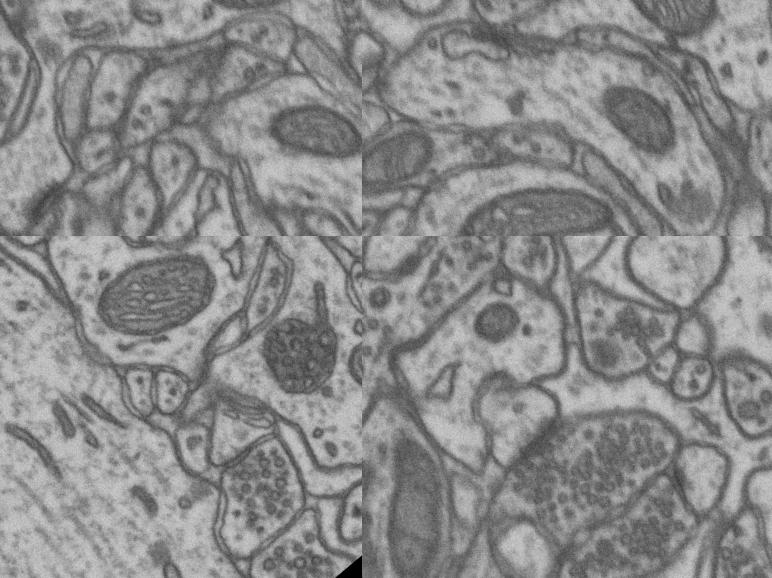mitochondria: (362, 397, 515, 578), (64, 236, 221, 378), (434, 134, 621, 236), (255, 69, 362, 195), (588, 62, 696, 174), (362, 344, 419, 542), (362, 108, 444, 217), (564, 300, 658, 394), (599, 0, 744, 59), (362, 480, 440, 578), (451, 286, 532, 366), (192, 0, 303, 44), (329, 315, 362, 422)
